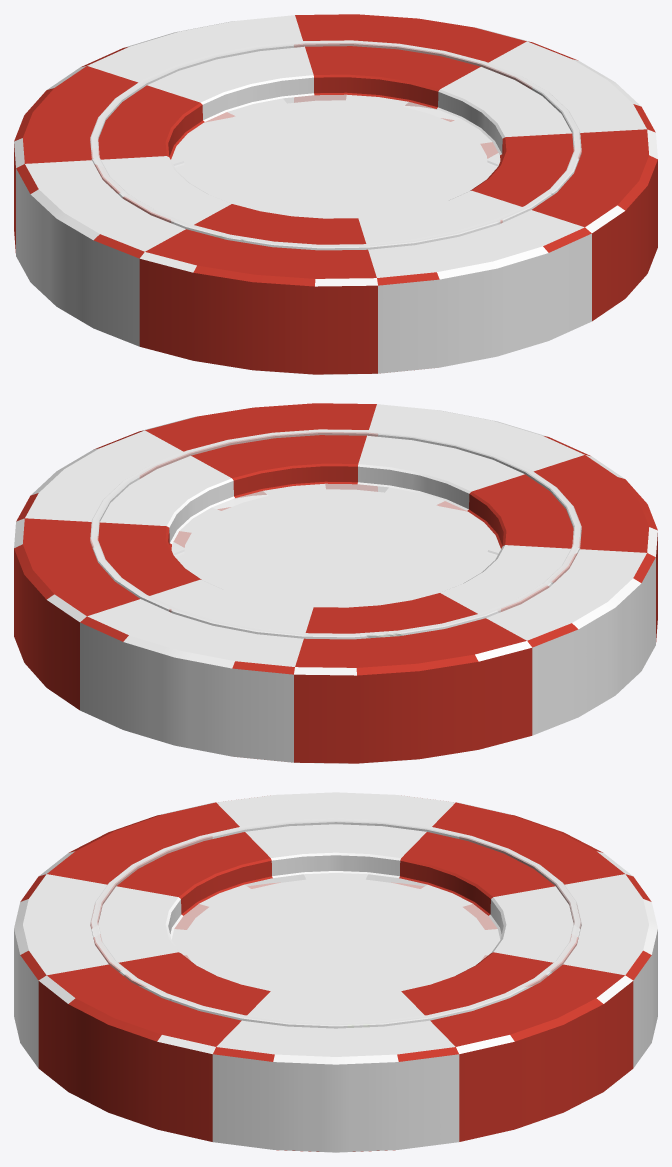
File: Ball_Chip.fbx
3 renders of one model, top to bottom at view 1: azimuth 30°, elevation 25°; view 2: azimuth 150°, elevation 25°; view 3: azimuth 270°, elevation 25°, orthographic.
Parts seen in each view (by area): view 1: Cylinder.012; view 2: Cylinder.012; view 3: Cylinder.012.
Part boxes in pixels (bbox=[...]): Cylinder.012: bbox=[14, 14, 657, 374]; Cylinder.012: bbox=[14, 403, 657, 763]; Cylinder.012: bbox=[14, 792, 657, 1152].
Bounding box in the file's own units: 100 × 17.36 × 100.
